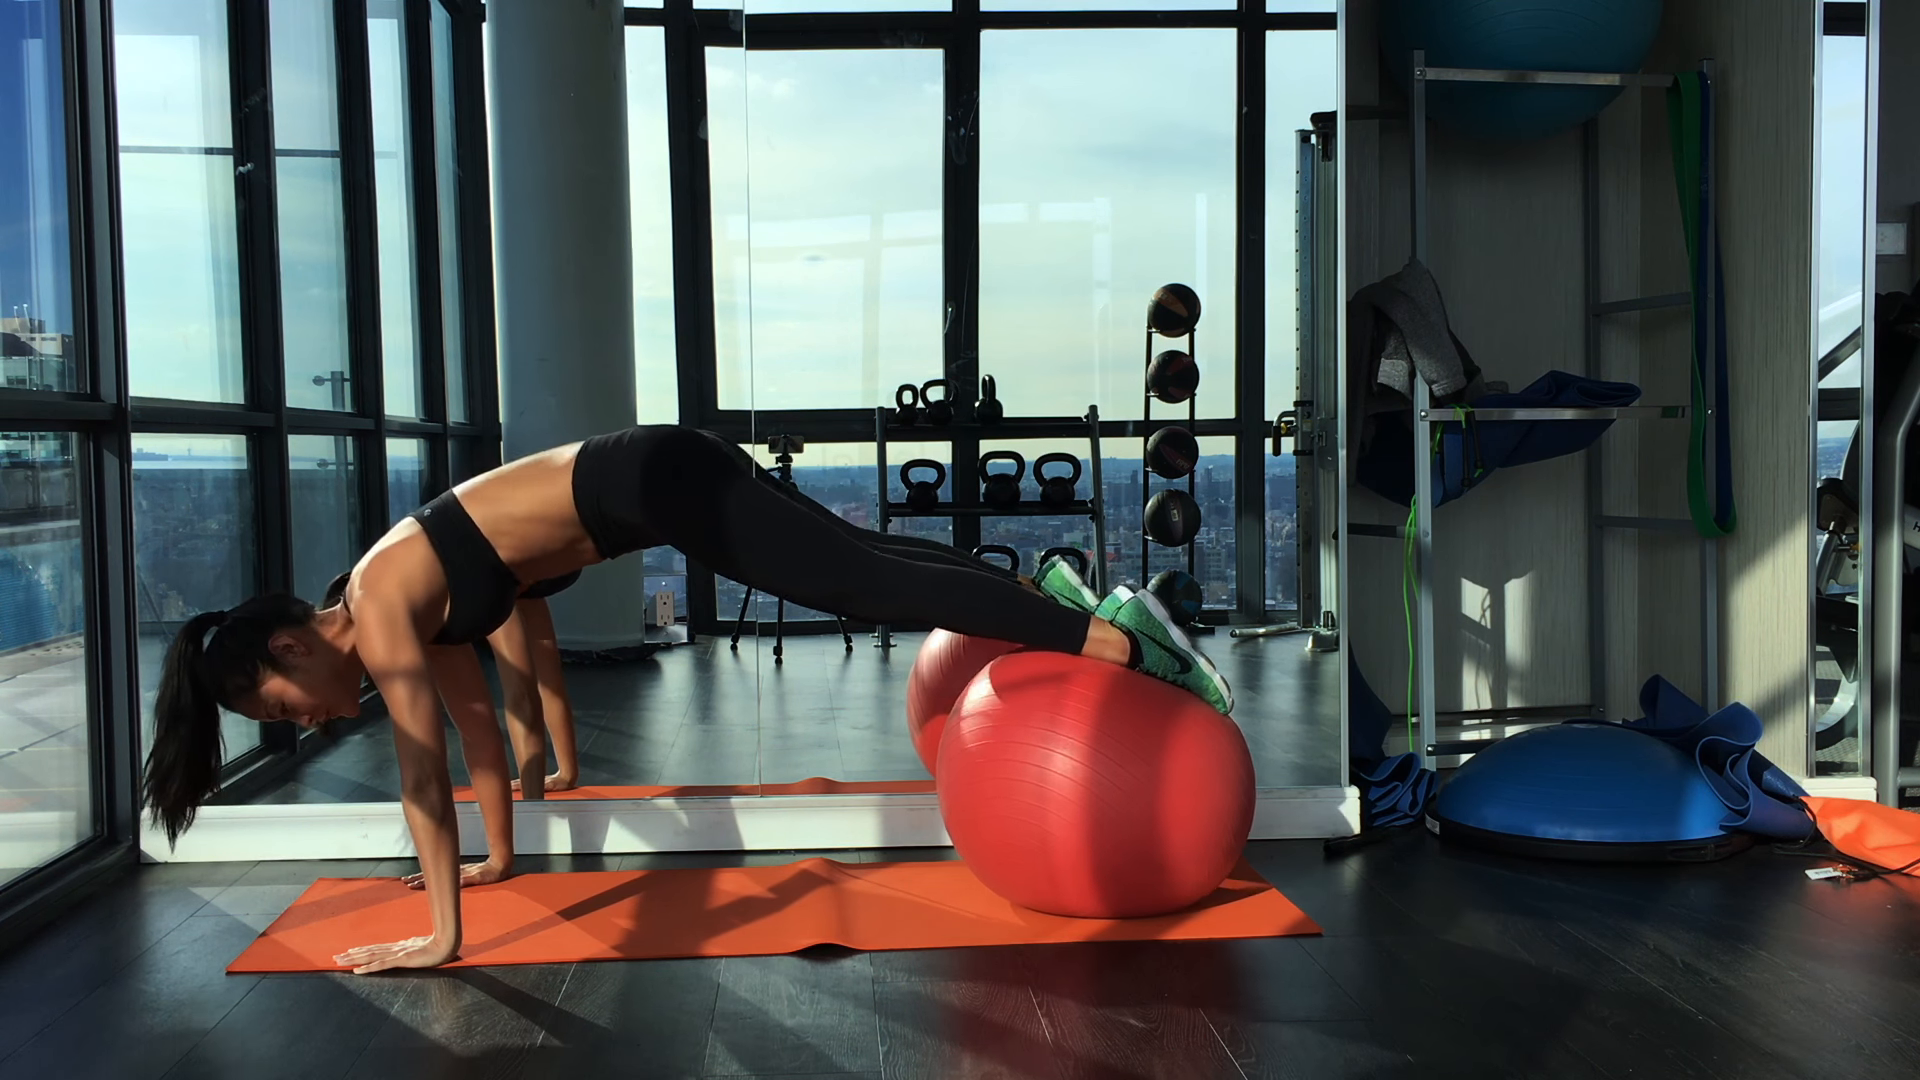yogaball: (927, 618, 1278, 943)
